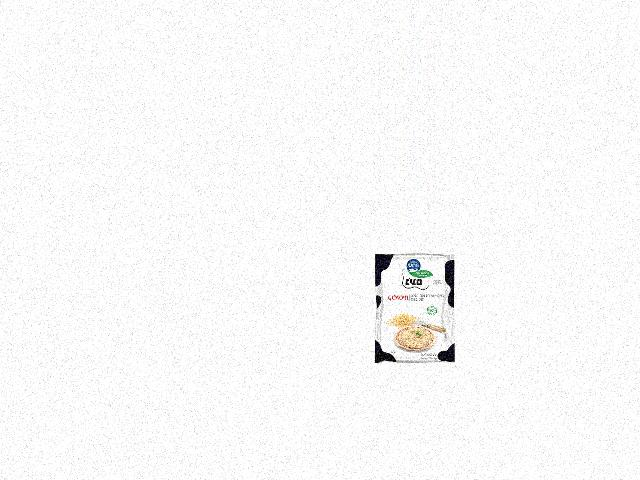cheese: (372, 253, 456, 365)
